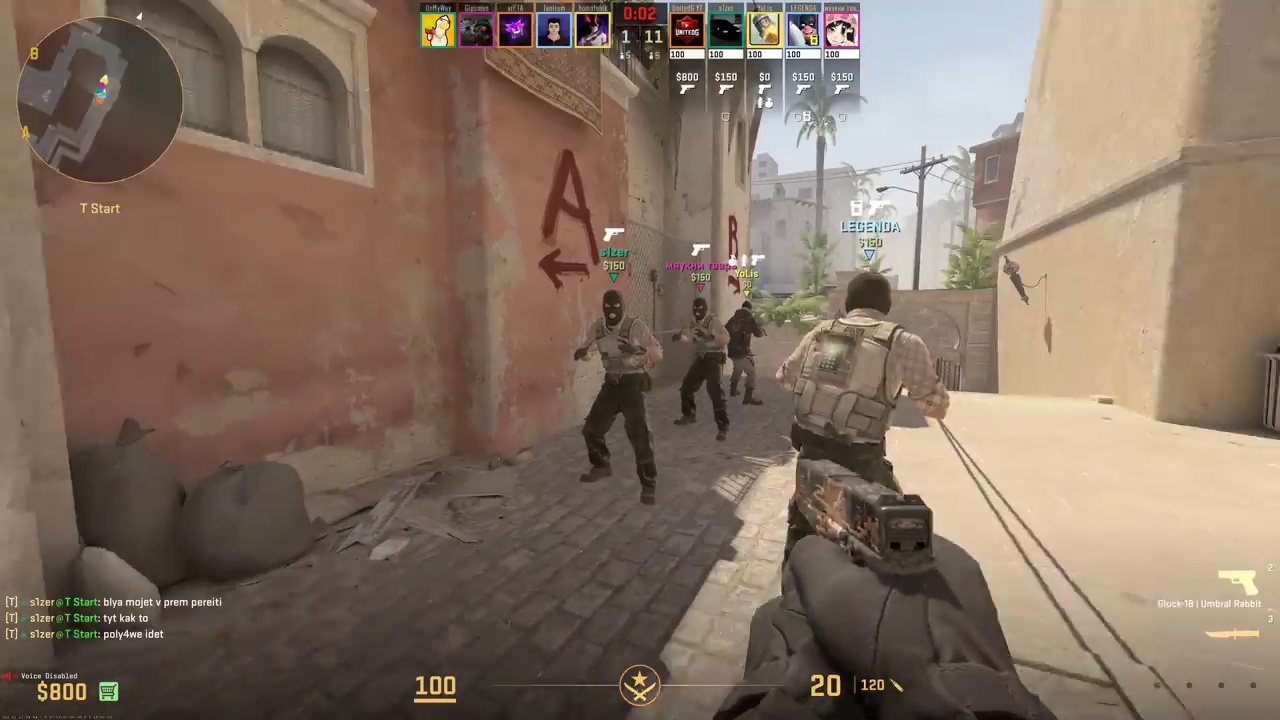Terrorist: (787, 271, 921, 485), (572, 287, 652, 507), (674, 297, 729, 440), (727, 300, 758, 406)
